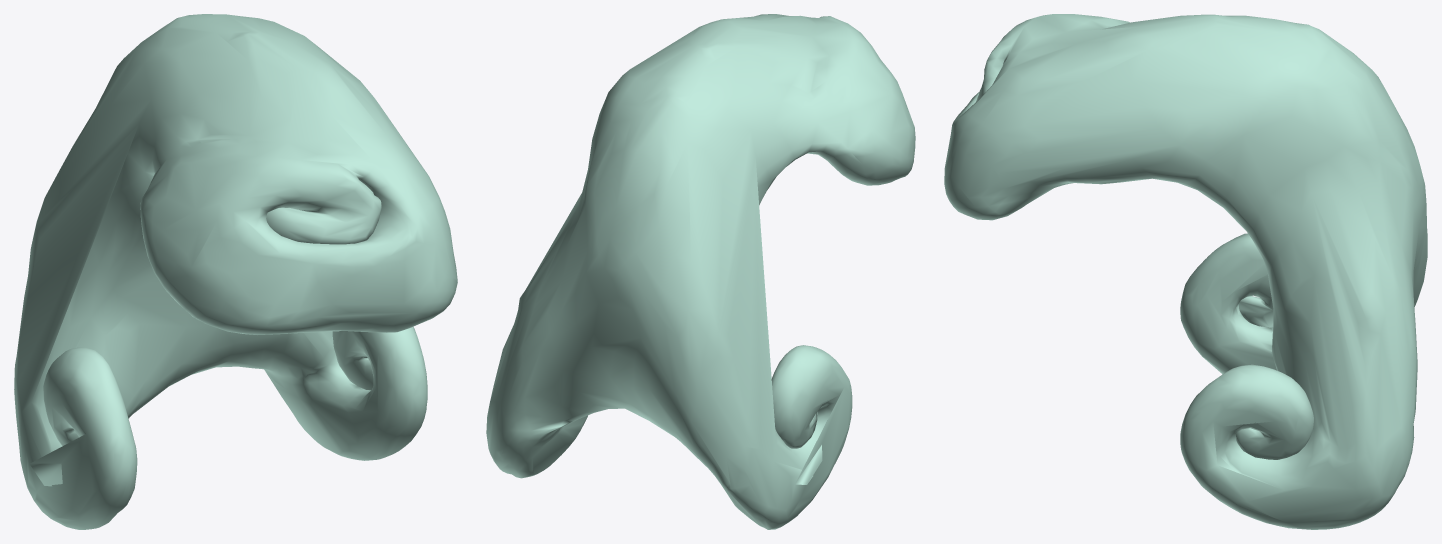
The model's file is Mane_16.fbx.
3 views of the same model, side by side, from view 1: azimuth 30°, elevation 25°; view 2: azimuth 150°, elevation 25°; view 3: azimuth 270°, elevation 25° (orthographic). The views are drawn at different scales.
Visible parts, largest first — view 1: Mane_16; view 2: Mane_16; view 3: Mane_16.
Part boxes in pixels (left/top/right/bottom): Mane_16: left=14, top=14, right=457, bottom=529; Mane_16: left=486, top=14, right=915, bottom=529; Mane_16: left=944, top=14, right=1427, bottom=529.
Size of the model in its own units: 146 by 203 by 198.
